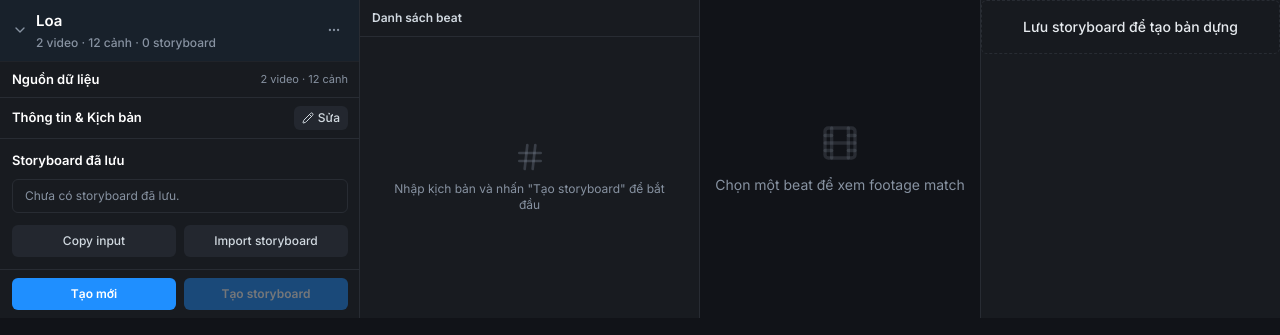
Test: StoryboardPage › collapses the active folder when clicking its header again
expect the text "Nguồn dữ liệu" is shown: met, box [12, 70, 99, 89]
Click the button "Loa 2 video · 12 cảnh · 0 storyboard". click: coordinates (126, 42)
box: [12, 10, 316, 50]
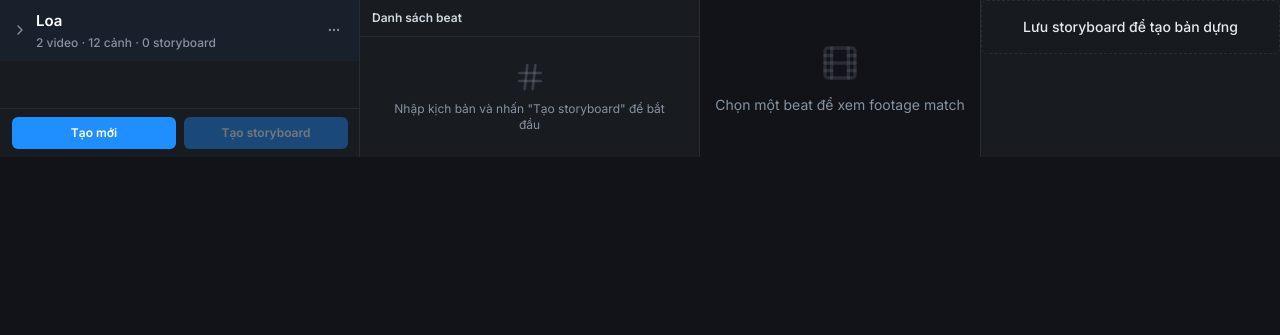
expect the text "Nguồn dữ liệu" is gone: met
